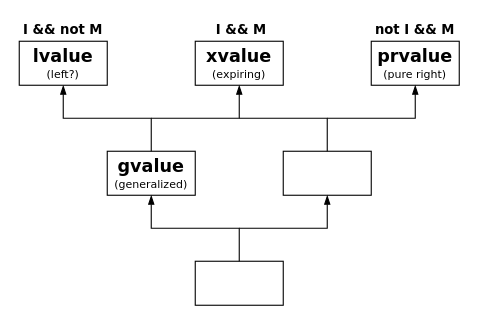
Image size: 479x325. Some labels were removed from this diagram. The centre of each missing label's shape, as x and y in pixels:
"expression categories" goes at (x=238, y=282).
"rvalue (right?)" goes at (x=326, y=172).
